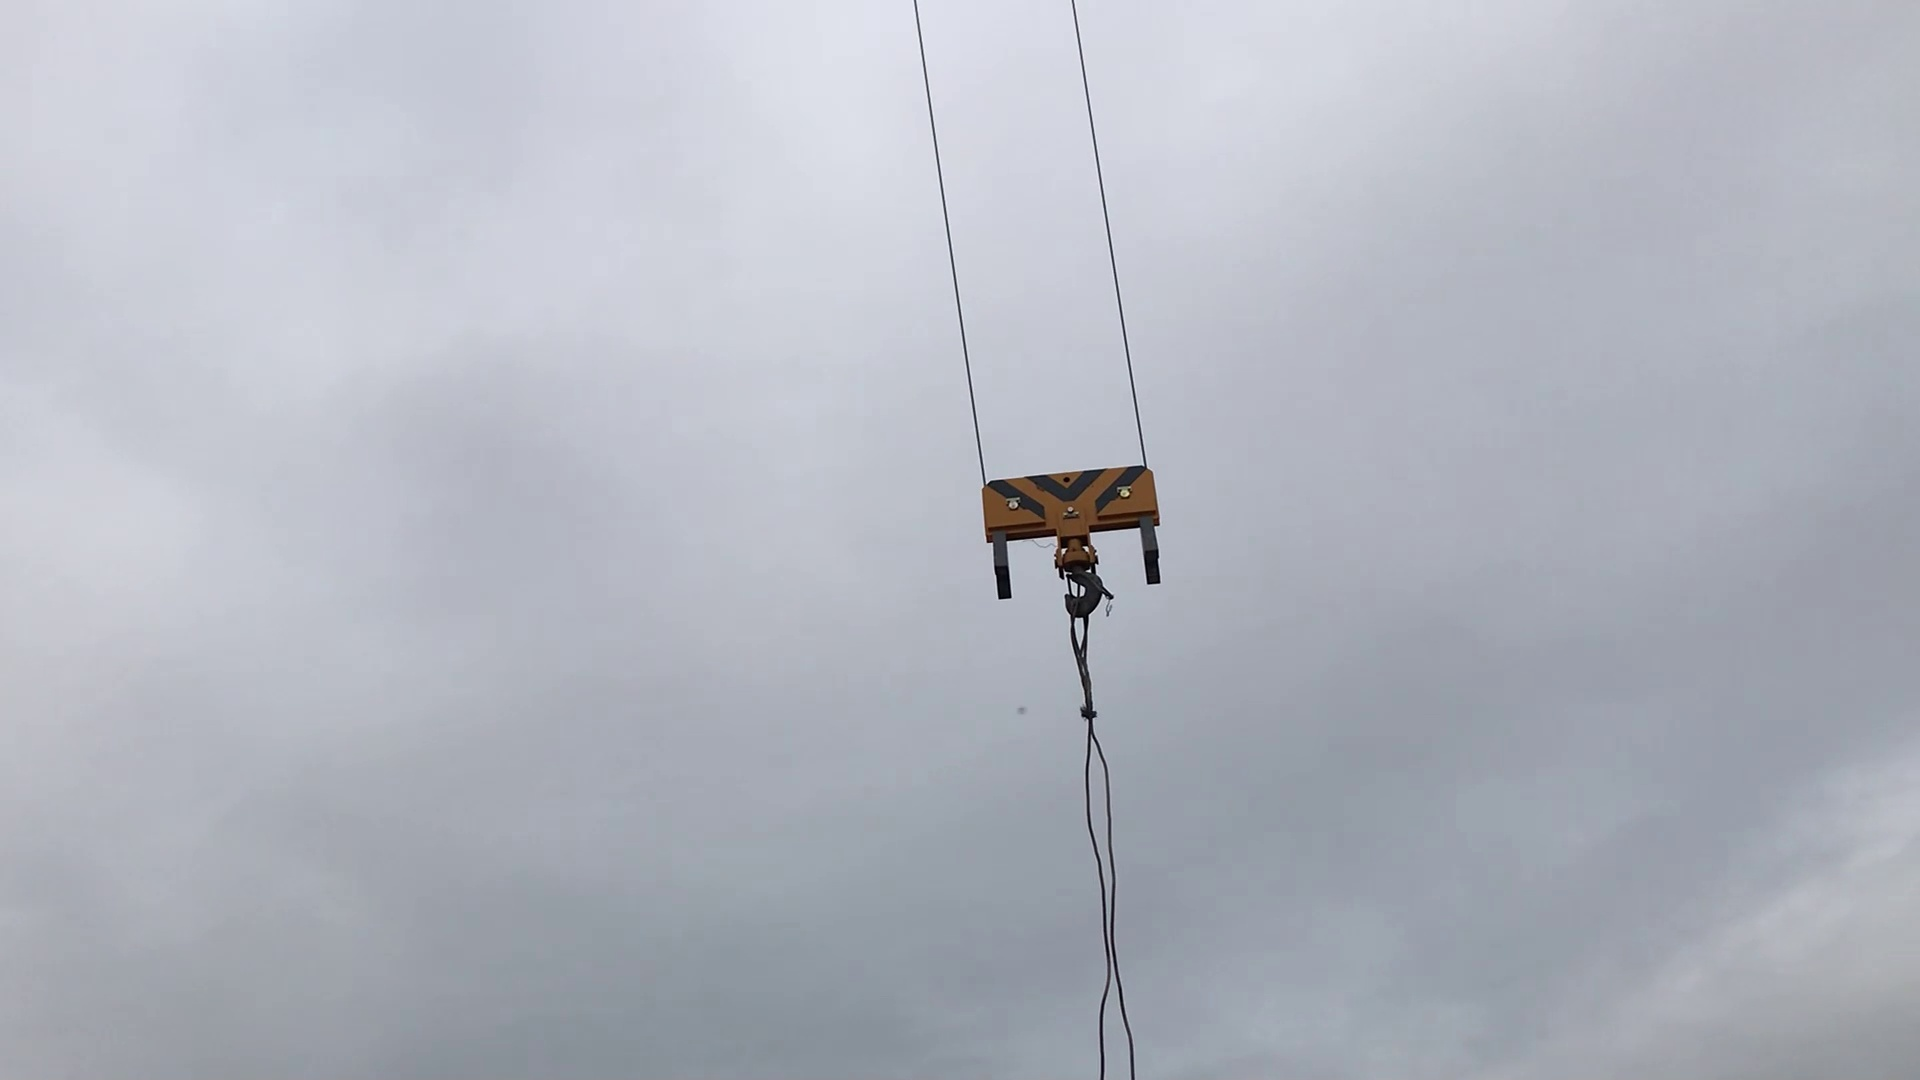hook: (957, 458, 1185, 616)
